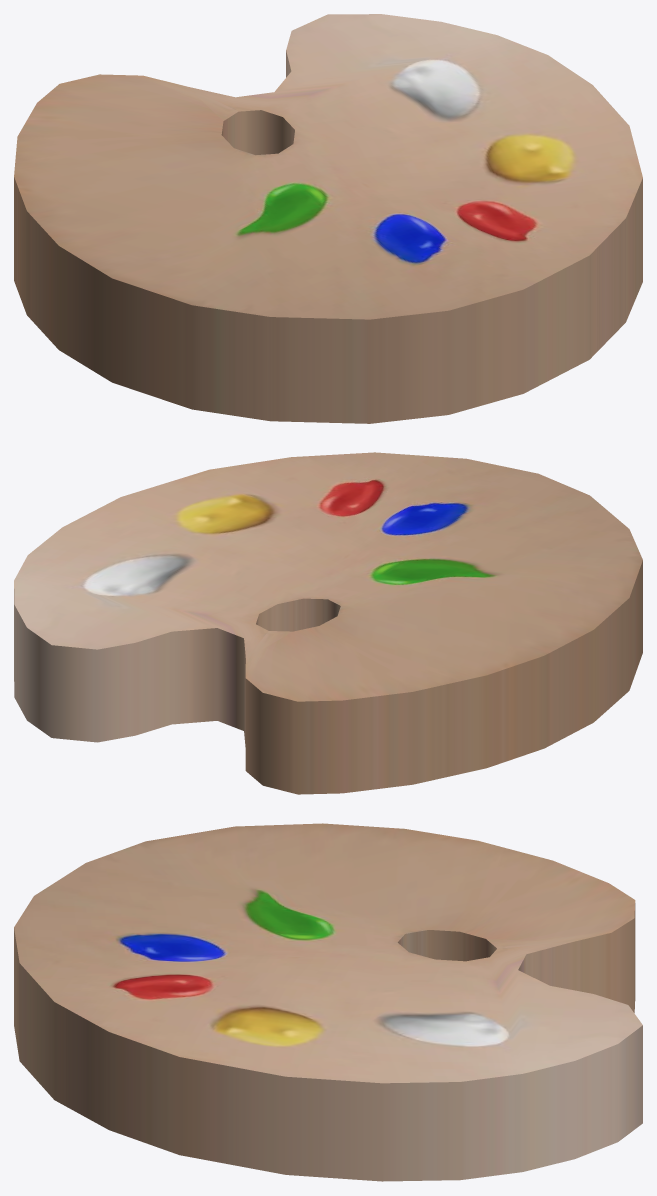
The model's file is ArtSchoolIdle_Tool_Stack.fbx.
3 views of the same model, one above another, from view 1: azimuth 30°, elevation 25°; view 2: azimuth 150°, elevation 25°; view 3: azimuth 270°, elevation 25° (orthographic). The views are drawn at different scales.
Visible parts, largest first — view 1: Tool_01_Stack; view 2: Tool_01_Stack; view 3: Tool_01_Stack.
Part boxes in pixels (left/top/right/bottom): Tool_01_Stack: left=14, top=14, right=642, bottom=423; Tool_01_Stack: left=14, top=452, right=642, bottom=794; Tool_01_Stack: left=14, top=823, right=642, bottom=1181.
Bounding box in the file's own units: 27.58 × 28.21 × 4.86.
Materials: 1 (1 with a texture image).
